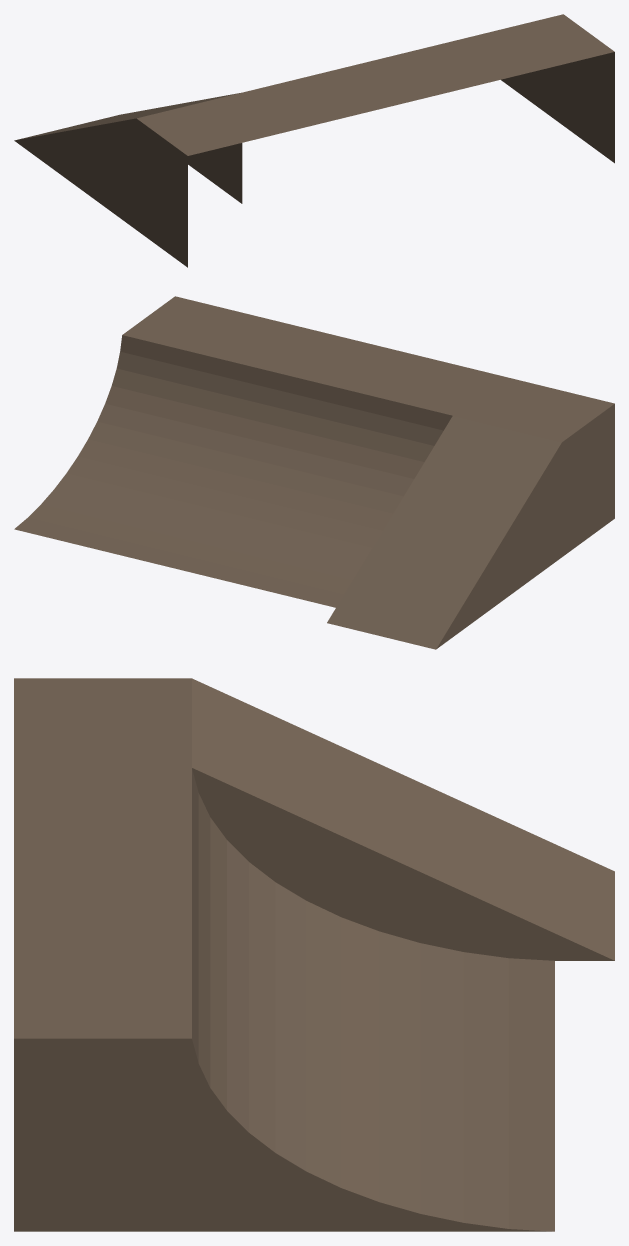
The model's file is skate-wedge.lod2.glb.
3 views of the same model, one above another, from view 1: azimuth 30°, elevation 25°; view 2: azimuth 150°, elevation 25°; view 3: azimuth 270°, elevation 25° (orthographic). The views are drawn at different scales.
Parts seen in each view (by area): view 1: InclineRamp_M_Ramp_0; view 2: InclineRamp_M_Ramp_0; view 3: InclineRamp_M_Ramp_0.
Boxes of the visible parts, x1,y1,x2,y2 form: InclineRamp_M_Ramp_0: [14, 14, 614, 267]; InclineRamp_M_Ramp_0: [14, 296, 614, 649]; InclineRamp_M_Ramp_0: [14, 678, 614, 1231].
Size of the model in its own units: 10.33 by 2.58 by 7.28.
